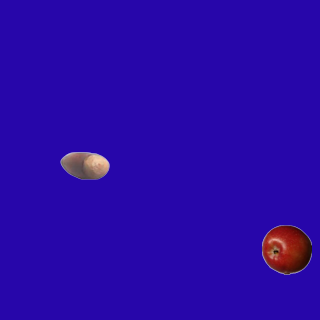Apple Braeburn: (261, 224, 311, 274)
Hazelnut: (59, 140, 109, 190)
